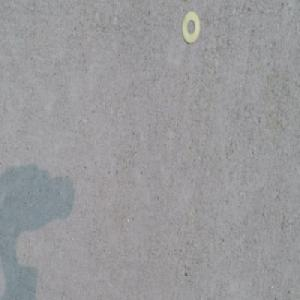Washer: (180, 12, 200, 43)
